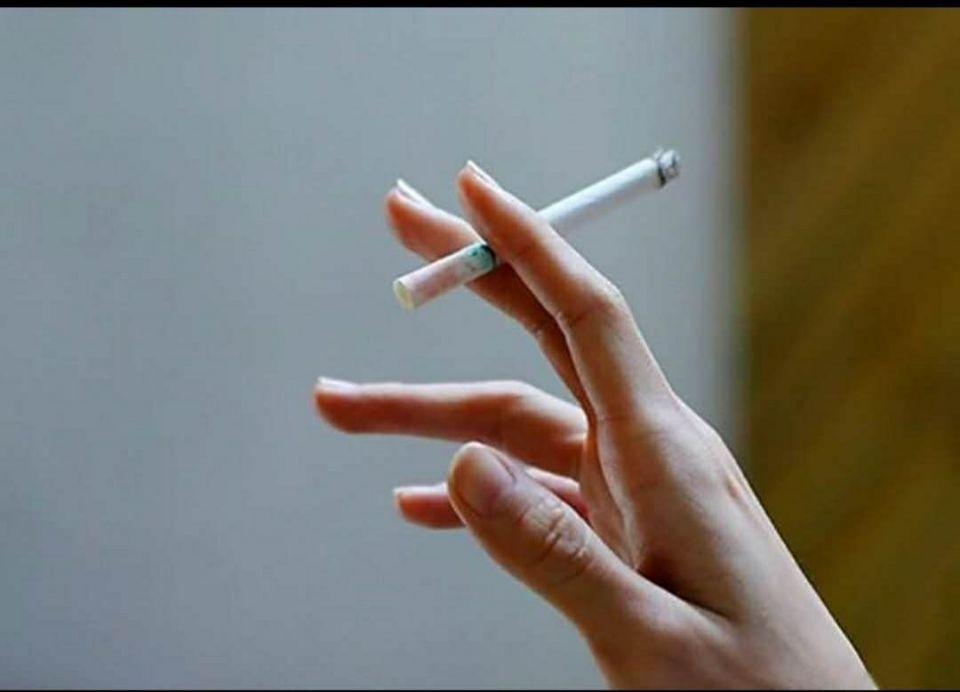Cigarette: (390, 146, 686, 313)
